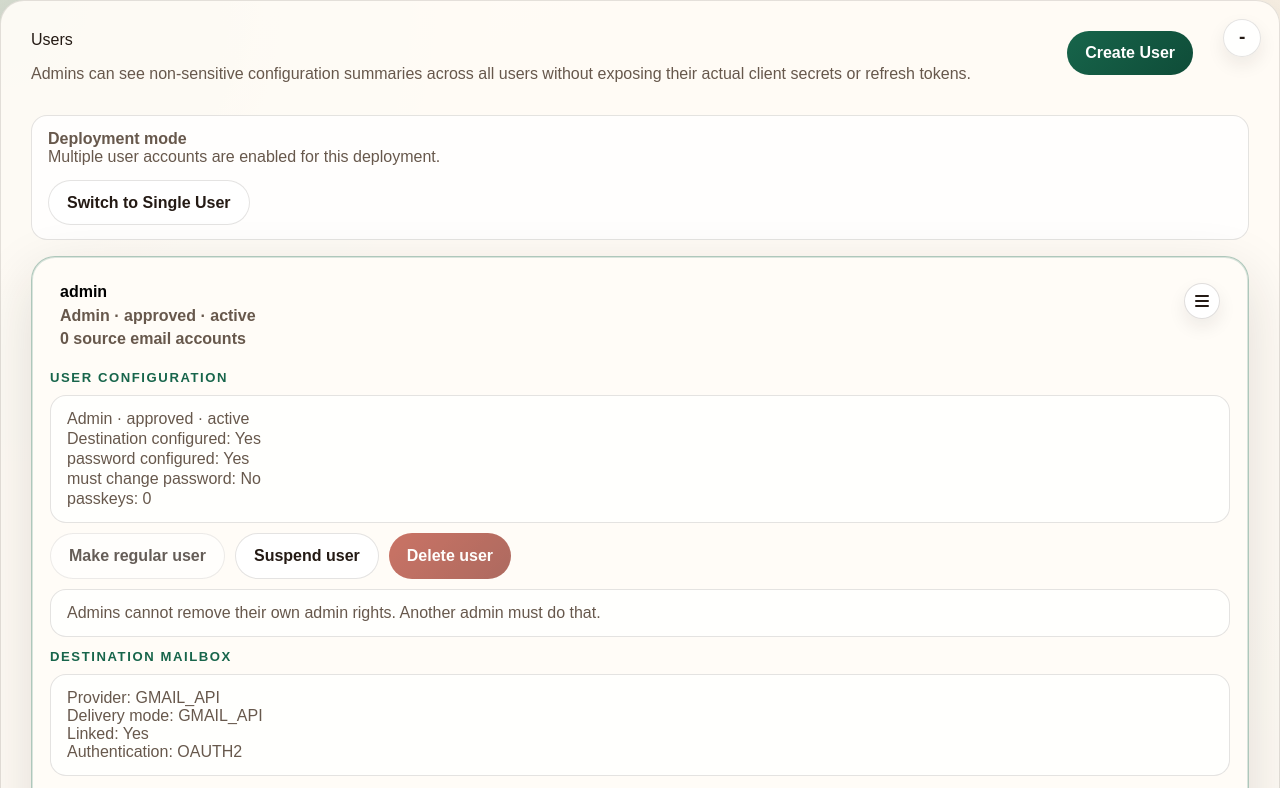
Test: UserManagementSection › opens the user contextual menu when the actions button is clicked
The image size is (1280, 788).
Click the button named "User actions" at x=1202, y=301, box 1184,283 -> 1220,319
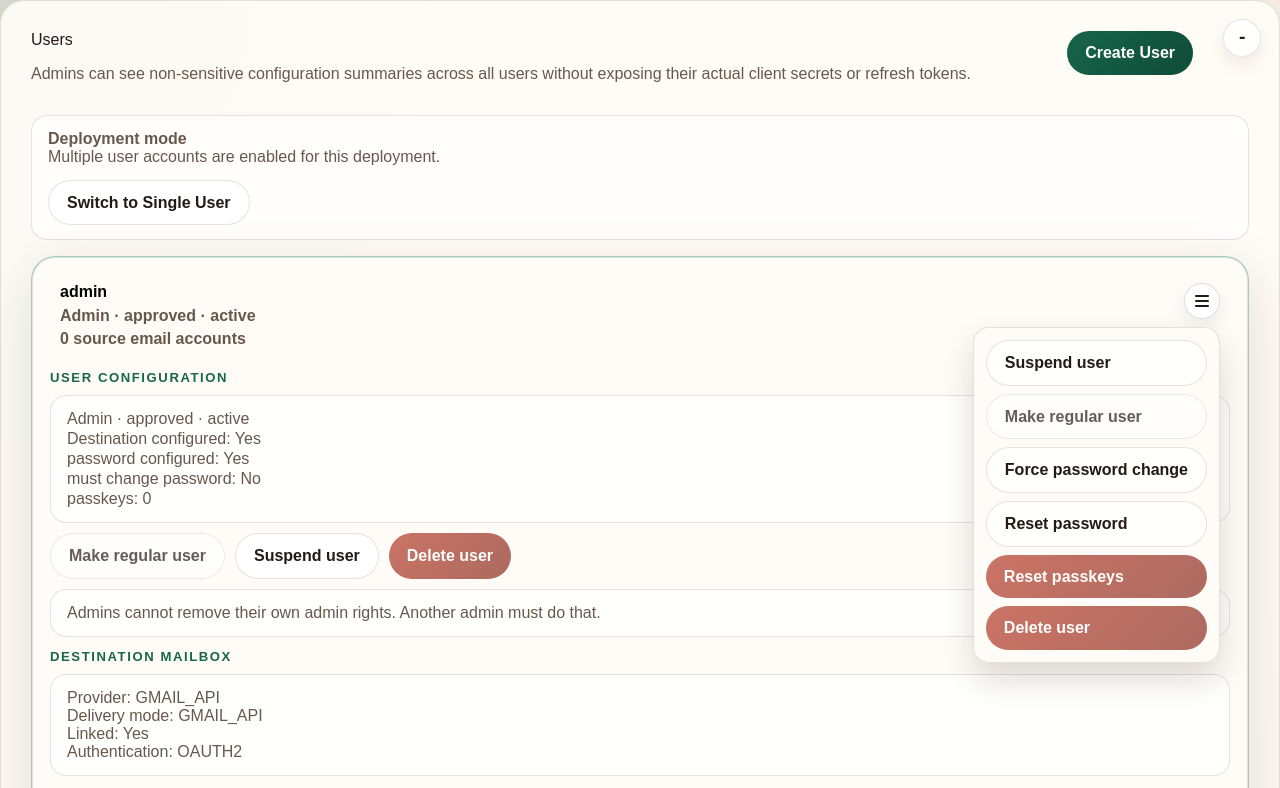
expect the 1st button "Suspend user" is shown: met, box 986,340 -> 1207,386
expect the button "Force password change" is shown: met, box 986,447 -> 1207,493
expect the button "Reset password" is shown: met, box 986,501 -> 1207,547
